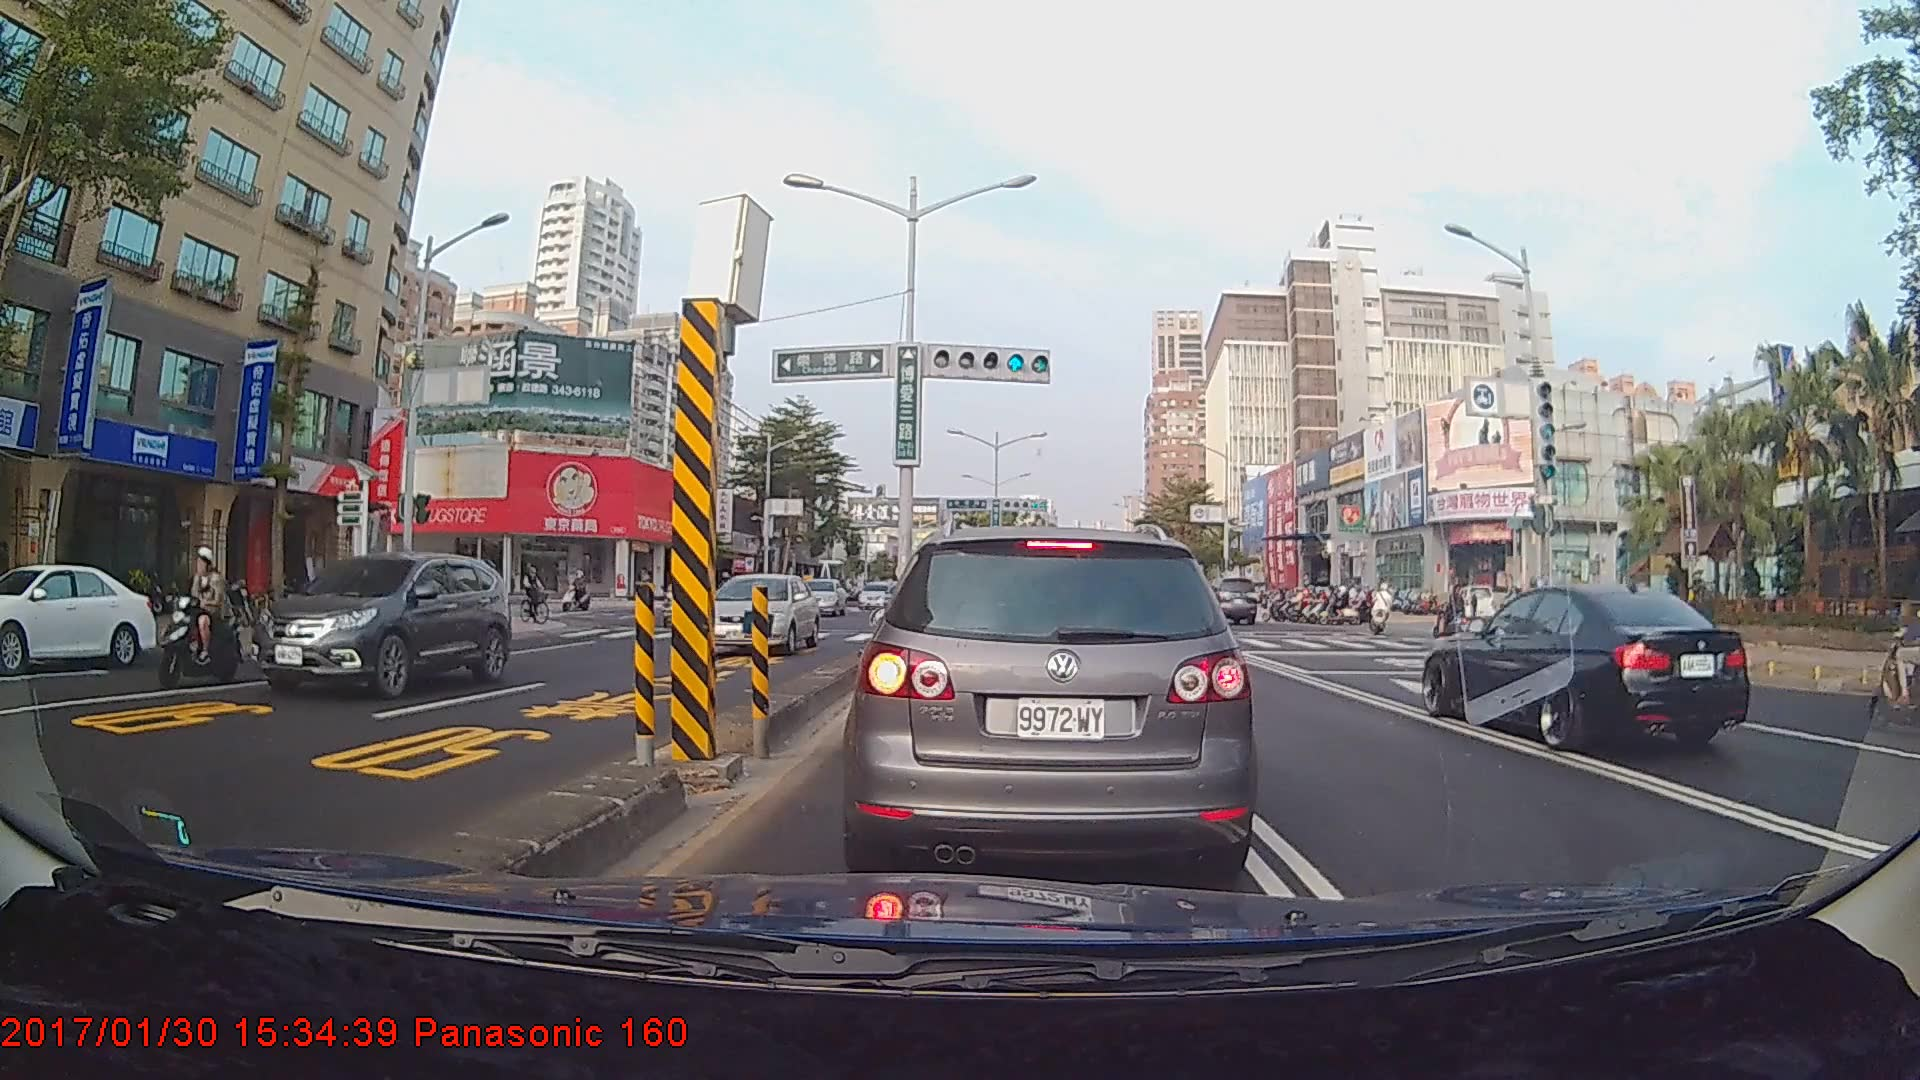rider: (156, 547, 246, 686), (1864, 605, 1920, 736), (398, 565, 466, 655), (518, 559, 561, 629), (1436, 582, 1473, 646), (1365, 582, 1400, 643), (560, 570, 598, 613)
vehicle: (852, 524, 1249, 880), (1423, 579, 1752, 756), (248, 550, 512, 700), (0, 561, 157, 671), (692, 571, 819, 658), (1209, 574, 1256, 624), (791, 576, 844, 617)
